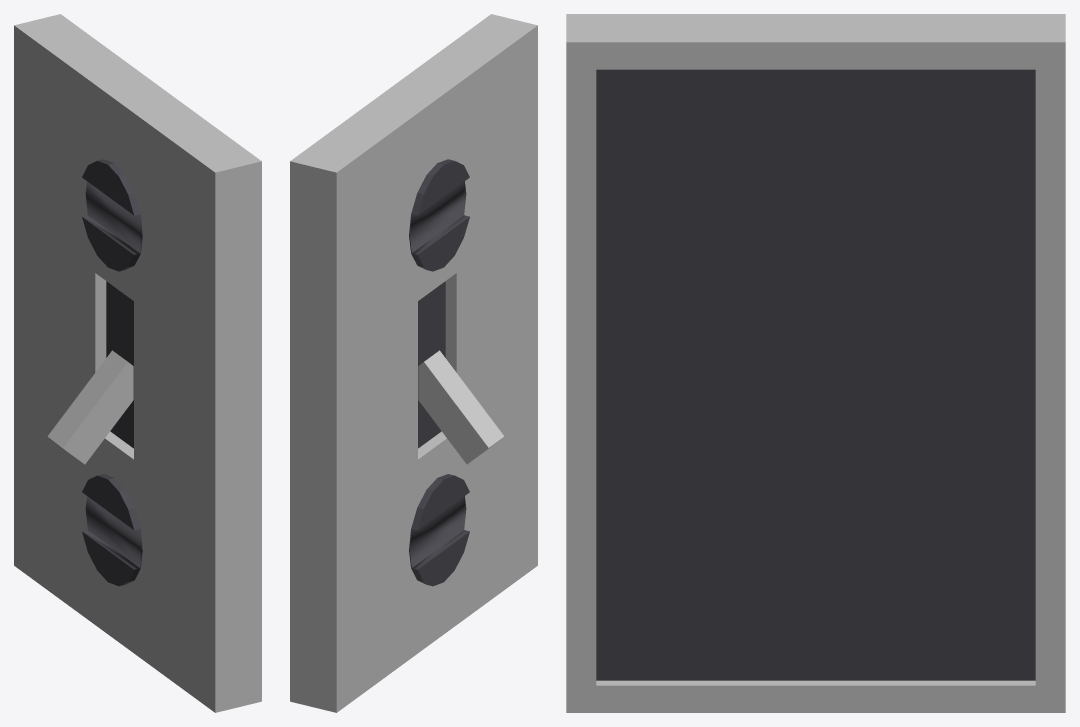
Rendered from switch textured.fbx.
3 views of the same model, side by side, from view 1: azimuth 30°, elevation 25°; view 2: azimuth 150°, elevation 25°; view 3: azimuth 270°, elevation 25° (orthographic). The views are drawn at different scales.
Parts seen in each view (by area): view 1: Board, Screw 2, Screw, Cube.041; view 2: Board, Screw 2, Screw, Cube.041; view 3: Board.
Boxes of the visible parts, x1,y1,x2,y2 form: Board: [14, 14, 261, 712]; Screw 2: [82, 474, 142, 586]; Screw: [82, 159, 142, 271]; Cube.041: [47, 350, 133, 464]; Board: [290, 14, 537, 712]; Screw 2: [409, 474, 469, 586]; Screw: [409, 159, 469, 271]; Cube.041: [418, 350, 504, 464]; Board: [566, 14, 1065, 712].
Size of the model in its own units: 30.56 by 149 by 101.
